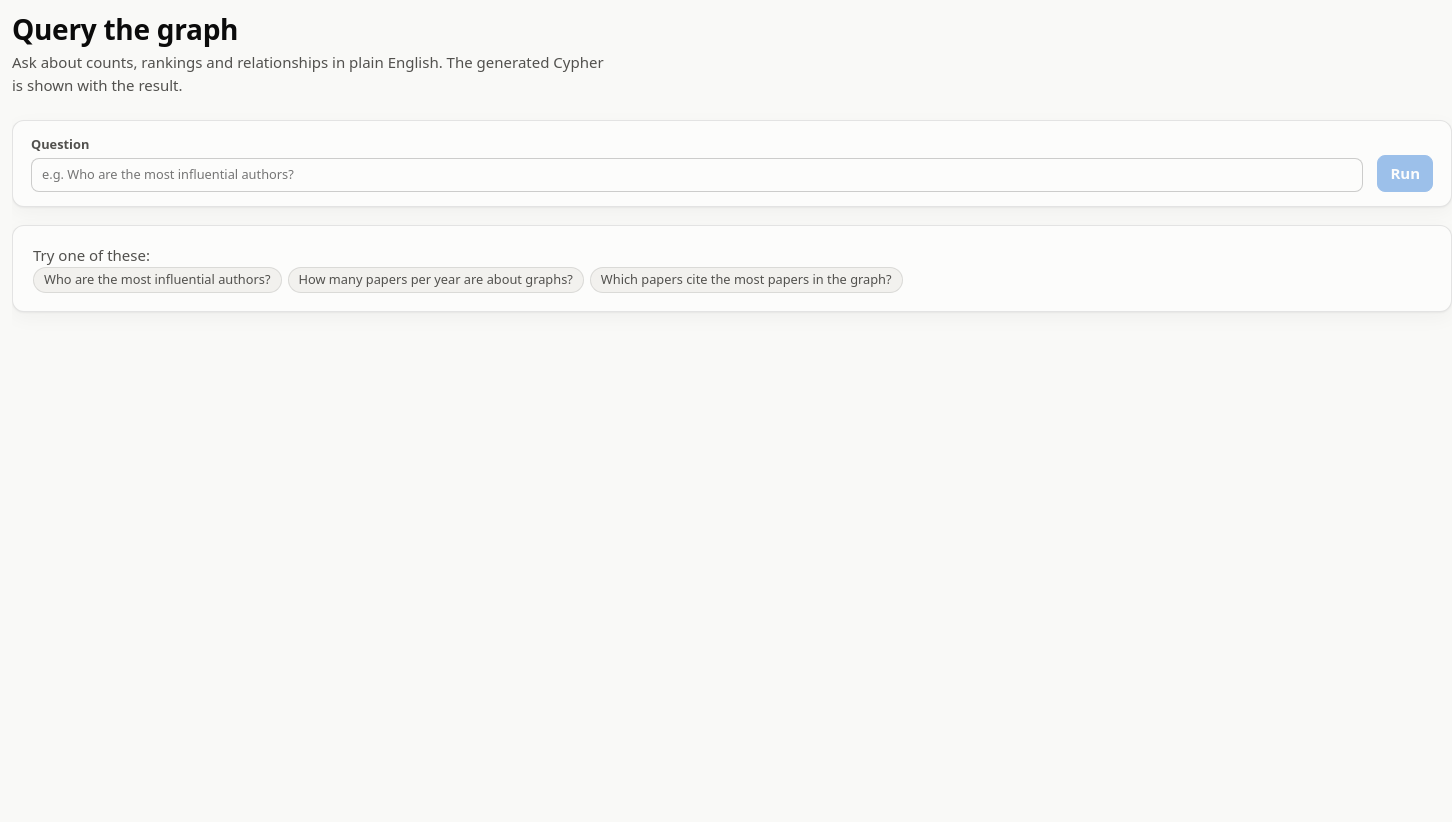
QueryPage › shows a table and the Cypher that produced it
Type "top authors" into the field labelled "Question".
click(697, 175); type("top authors")  # box left=31, top=158, right=1363, bottom=192
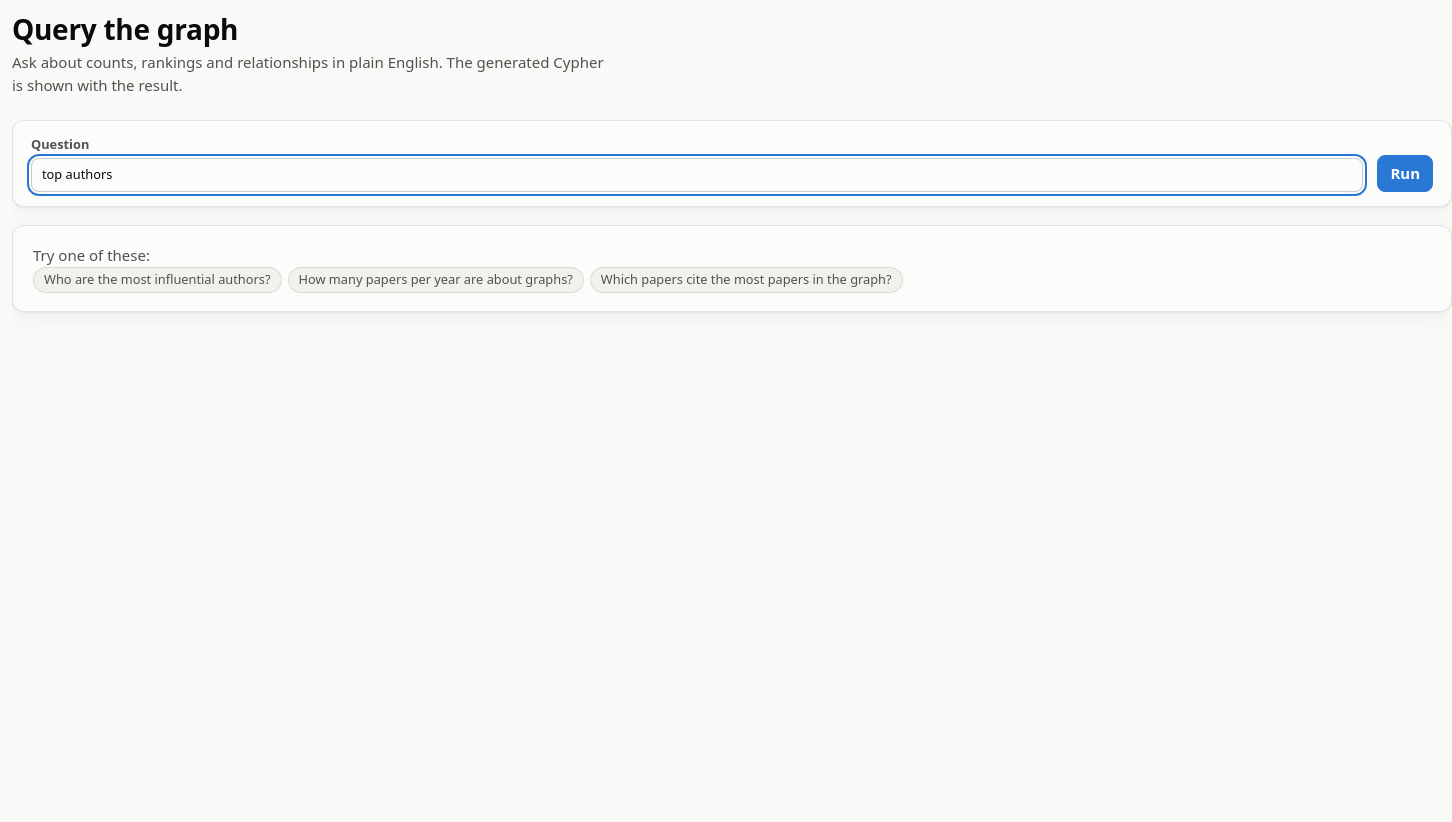
Click the button "Run".
click(1405, 174)  # box left=1377, top=155, right=1433, bottom=192
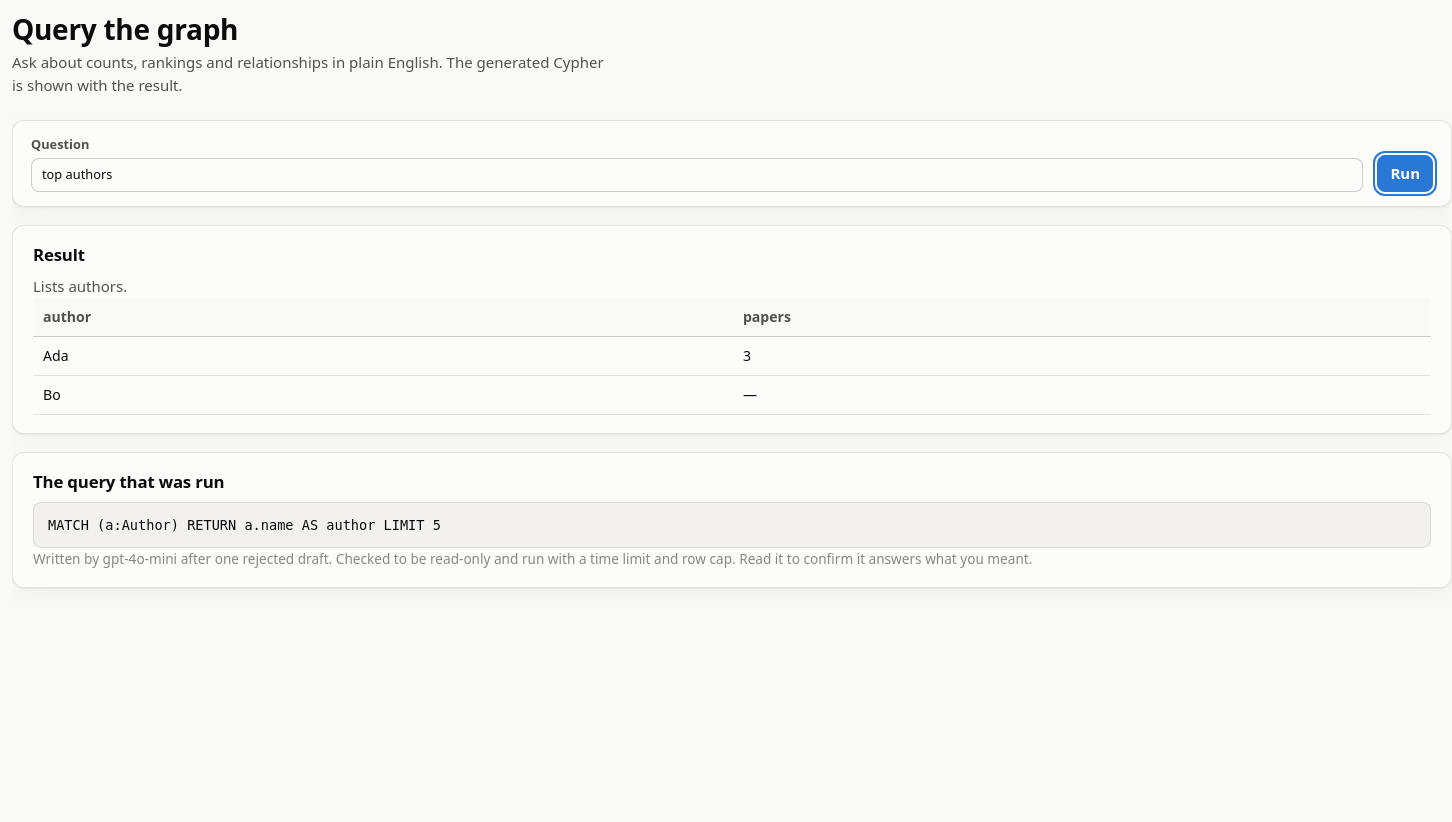
Now the column heading "author" is shown, box left=33, top=298, right=733, bottom=337
Now the text "Ada" is shown, box left=43, top=346, right=69, bottom=365
Now the text "—" is shown, box left=743, top=385, right=757, bottom=404
